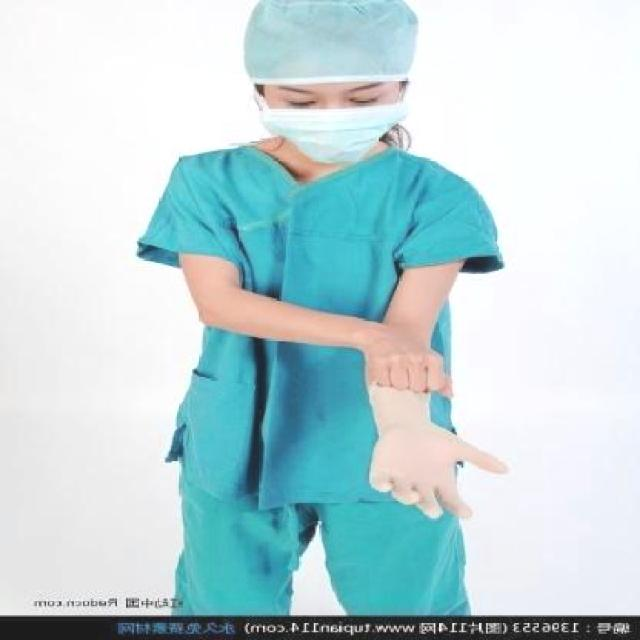face_mask: (260, 80, 418, 162)
hand_glove: (365, 422, 509, 518)
hand_noglove: (357, 336, 460, 396)
person: (145, 1, 519, 640)
